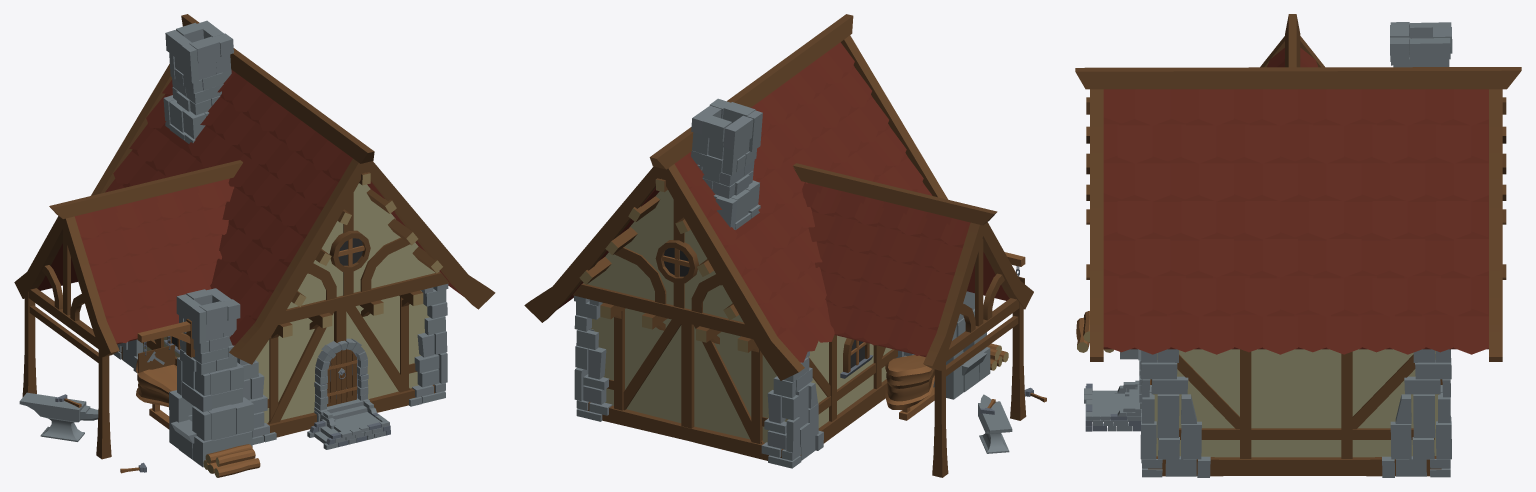
Rendered from b_blacksmith.glb.
3 views of the same model, side by side, from view 1: azimuth 30°, elevation 25°; view 2: azimuth 150°, elevation 25°; view 3: azimuth 270°, elevation 25° (orthographic). The views are drawn at different scales.
Visible parts, largest first — view 1: Blacksmith; view 2: Blacksmith; view 3: Blacksmith.
Boxes of the visible parts, x1,y1,x2,y2 form: Blacksmith: (14, 14, 495, 477); Blacksmith: (524, 14, 1046, 477); Blacksmith: (1075, 14, 1521, 477).
Size of the model in its own units: 3.89 by 3 by 3.28.
